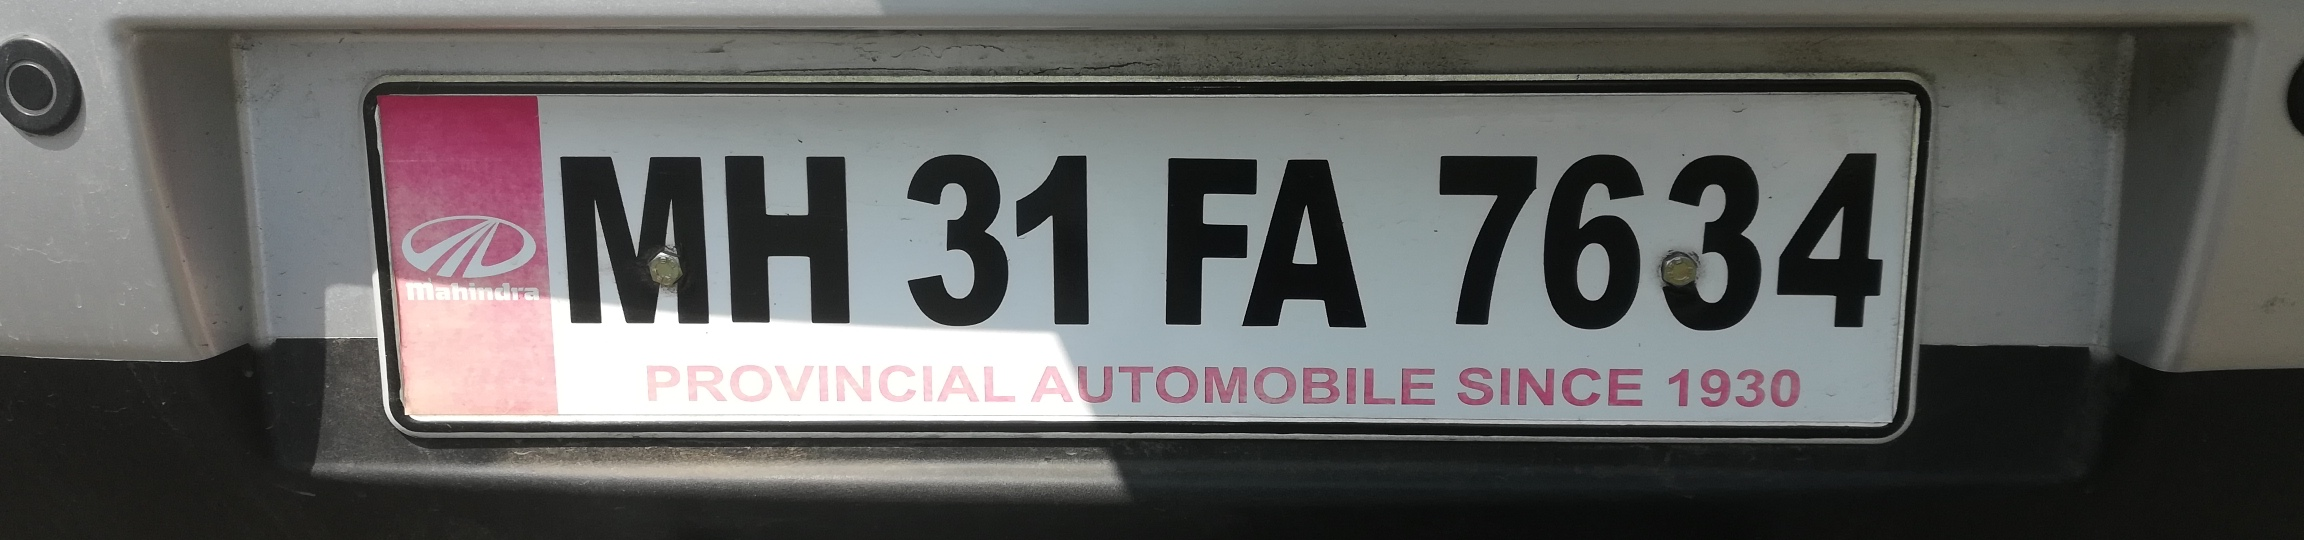numberplate: (355, 73, 1926, 457)
